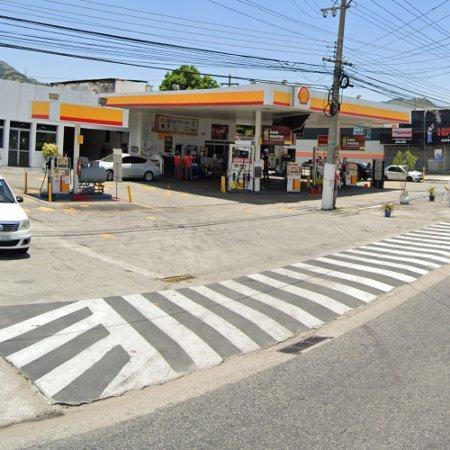crosswalks: (0, 224, 450, 405)
